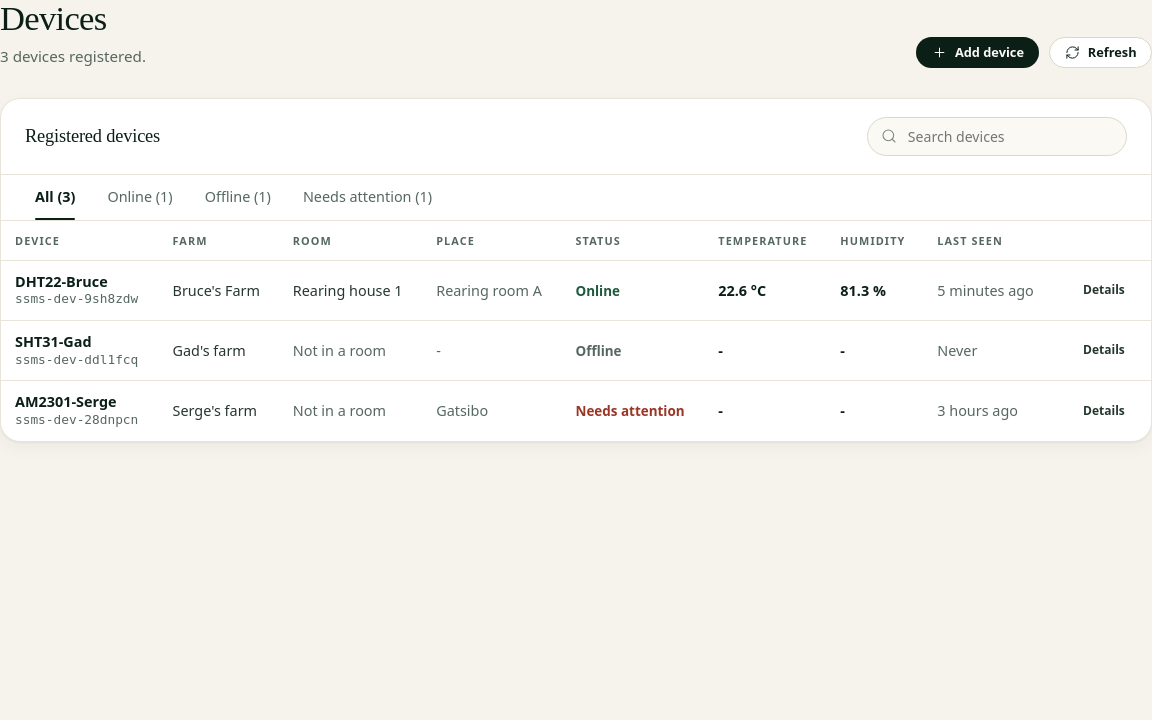
Devices page › registers a device and adds it to the list
The width and height of the screenshot is (1152, 720).
Expected: the text "DHT22-Bruce" is shown, [15,272,108,291]
Click the button "Add device".
click(978, 53)  # box [916,37,1039,68]
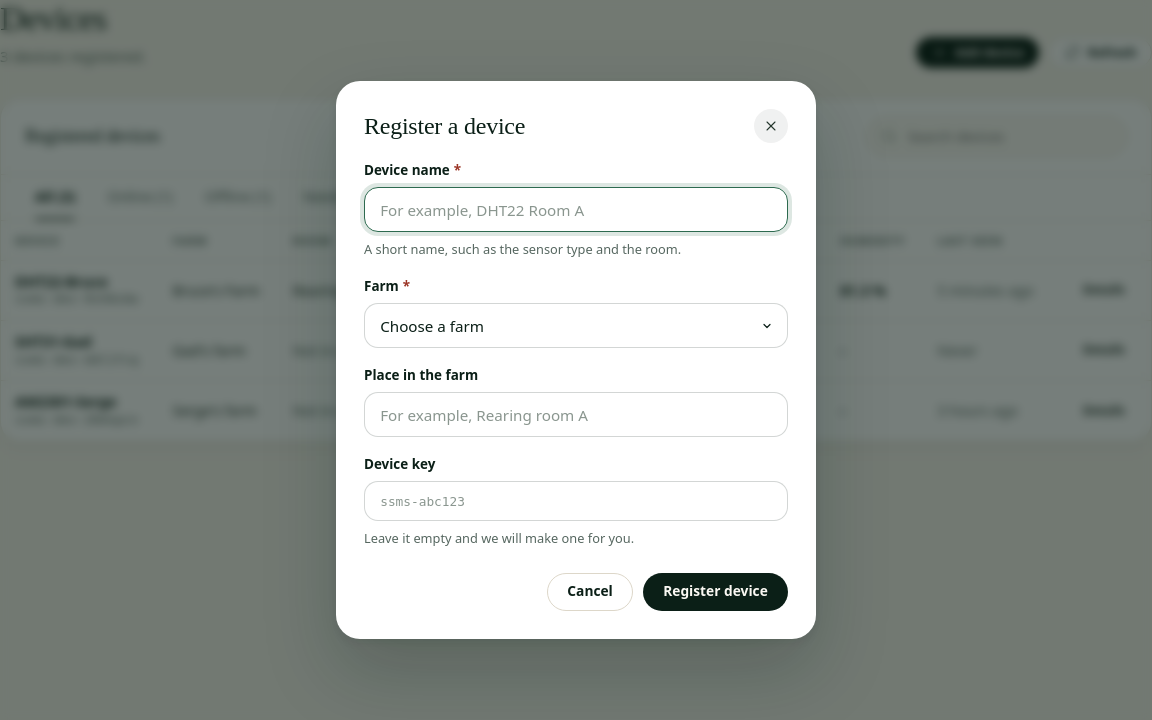
Type "New sensor" into the field labelled "Device name *".
click(576, 210); type("New sensor")  # box [364,187,788,232]
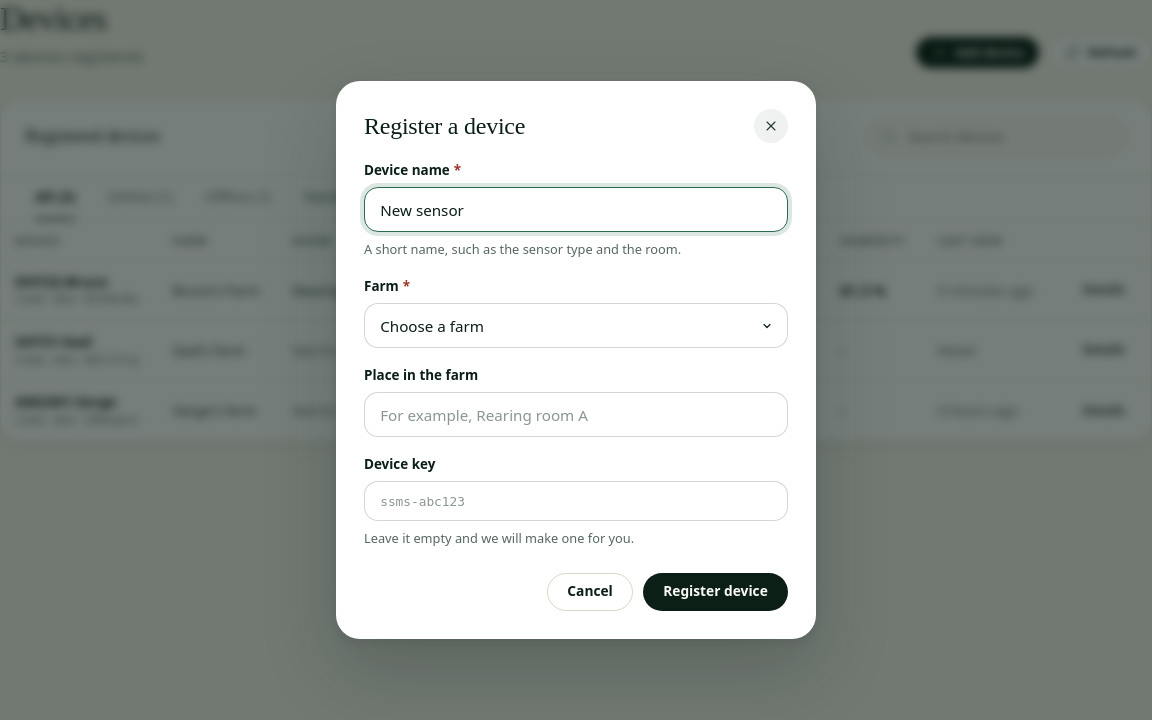
Select "New Farm (Huye)" in the dropdown labelled "Farm *" at (576, 326), box [364,303,788,348]
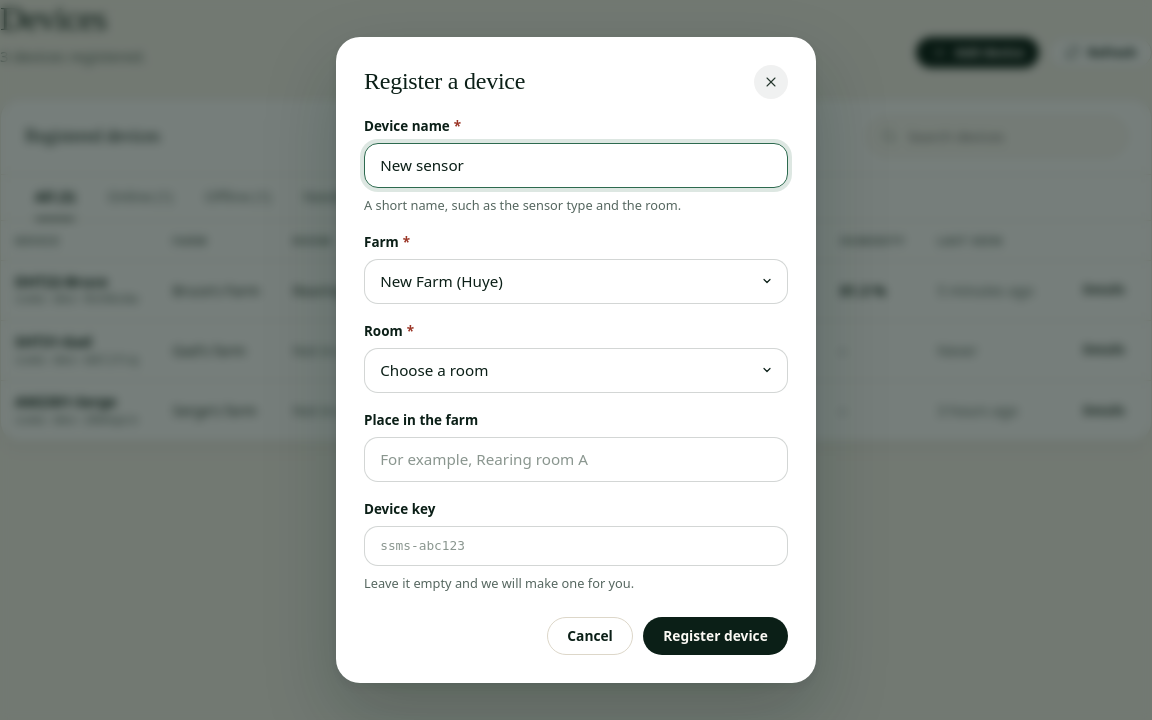
Select "Shed B" in the dropdown labelled "Room *" at (576, 370), box [364,348,788,393]
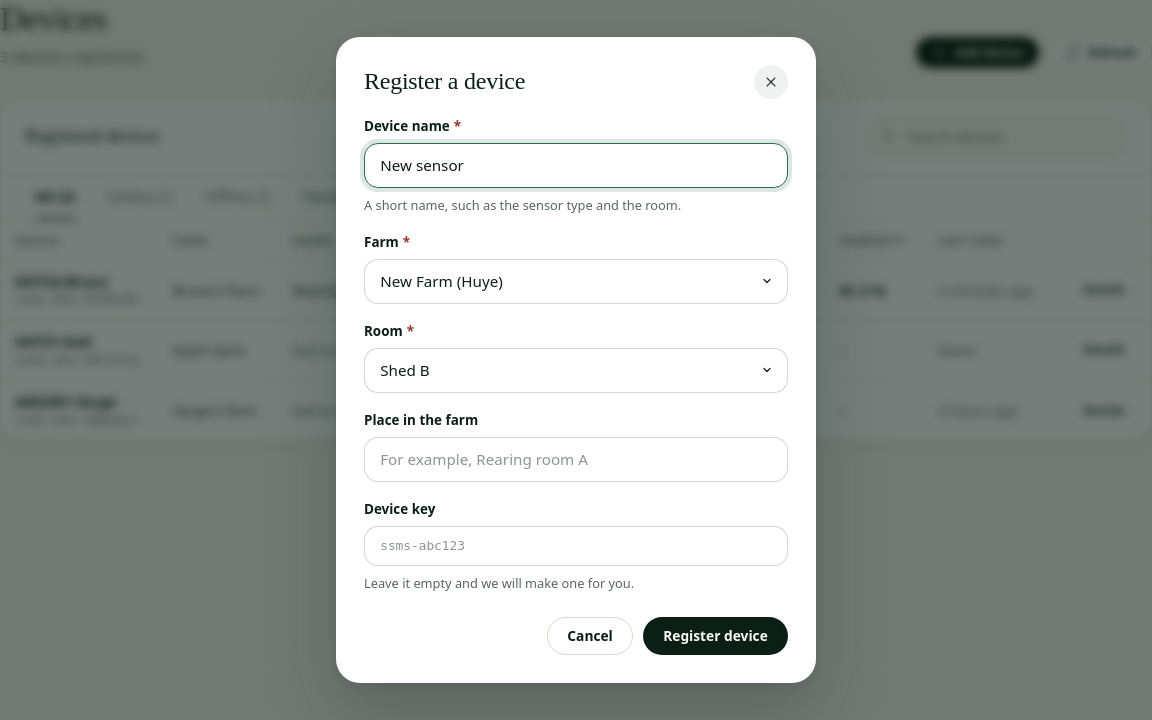
Type "Room 1" into the field labelled "Place in the farm".
click(576, 459); type("Room 1")  # box [364,437,788,482]
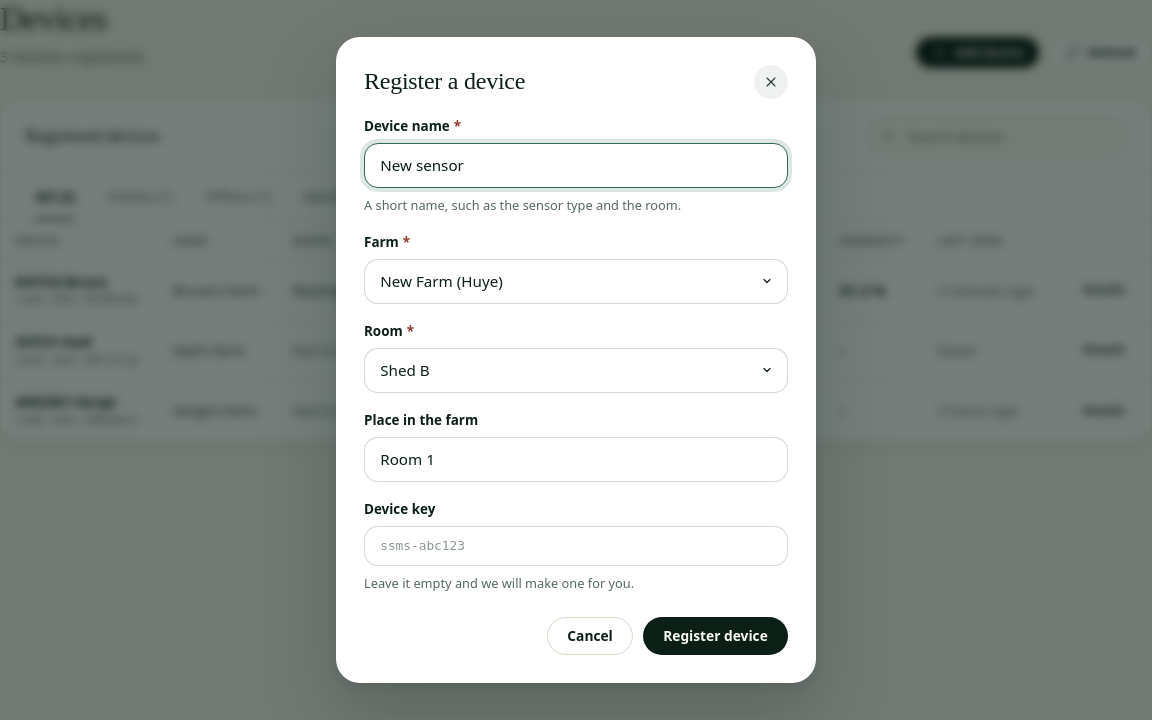
Click the button "Register device".
click(716, 636)  # box [643,617,788,655]
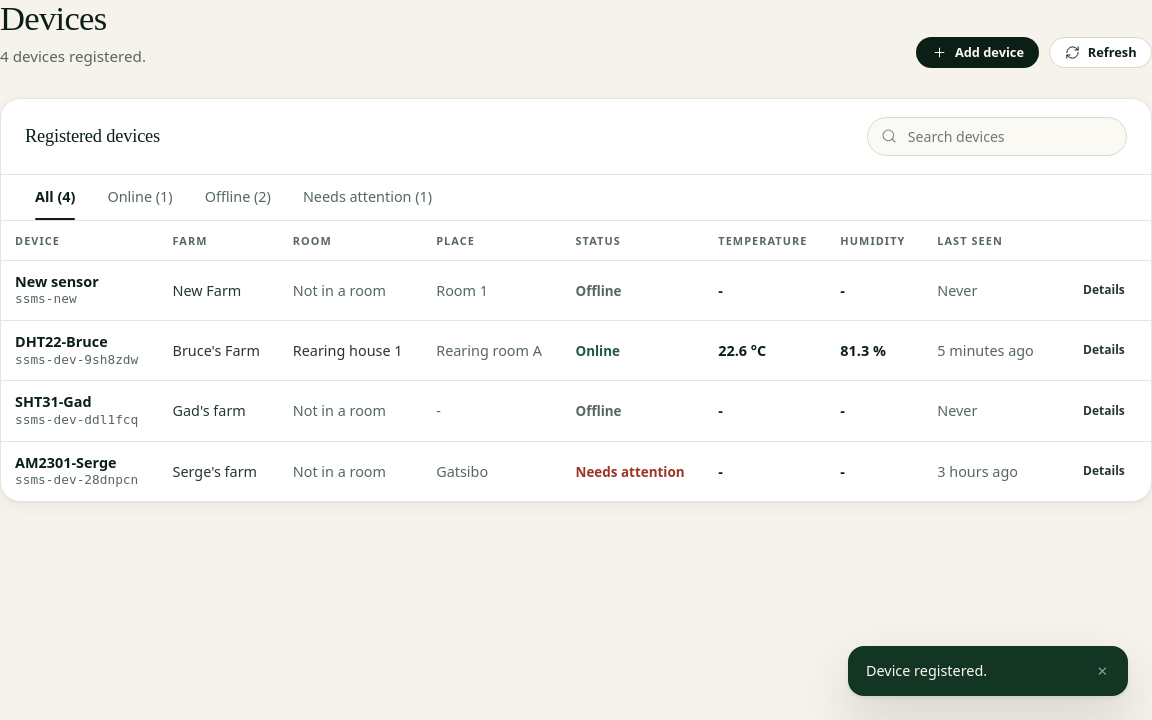
Expected: the text "New sensor" is shown, [15,272,99,291]
